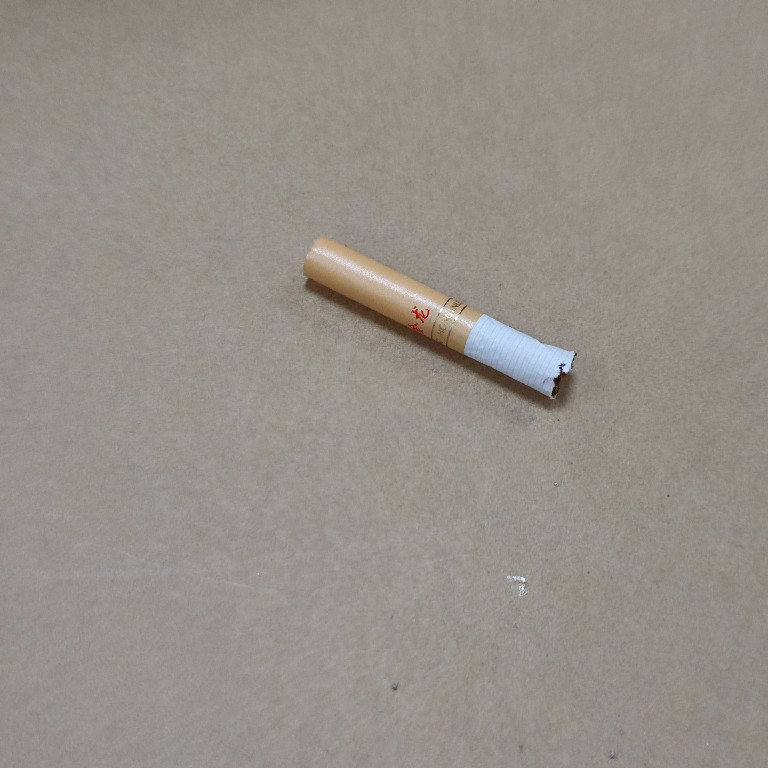cigarette: (296, 228, 581, 409)
